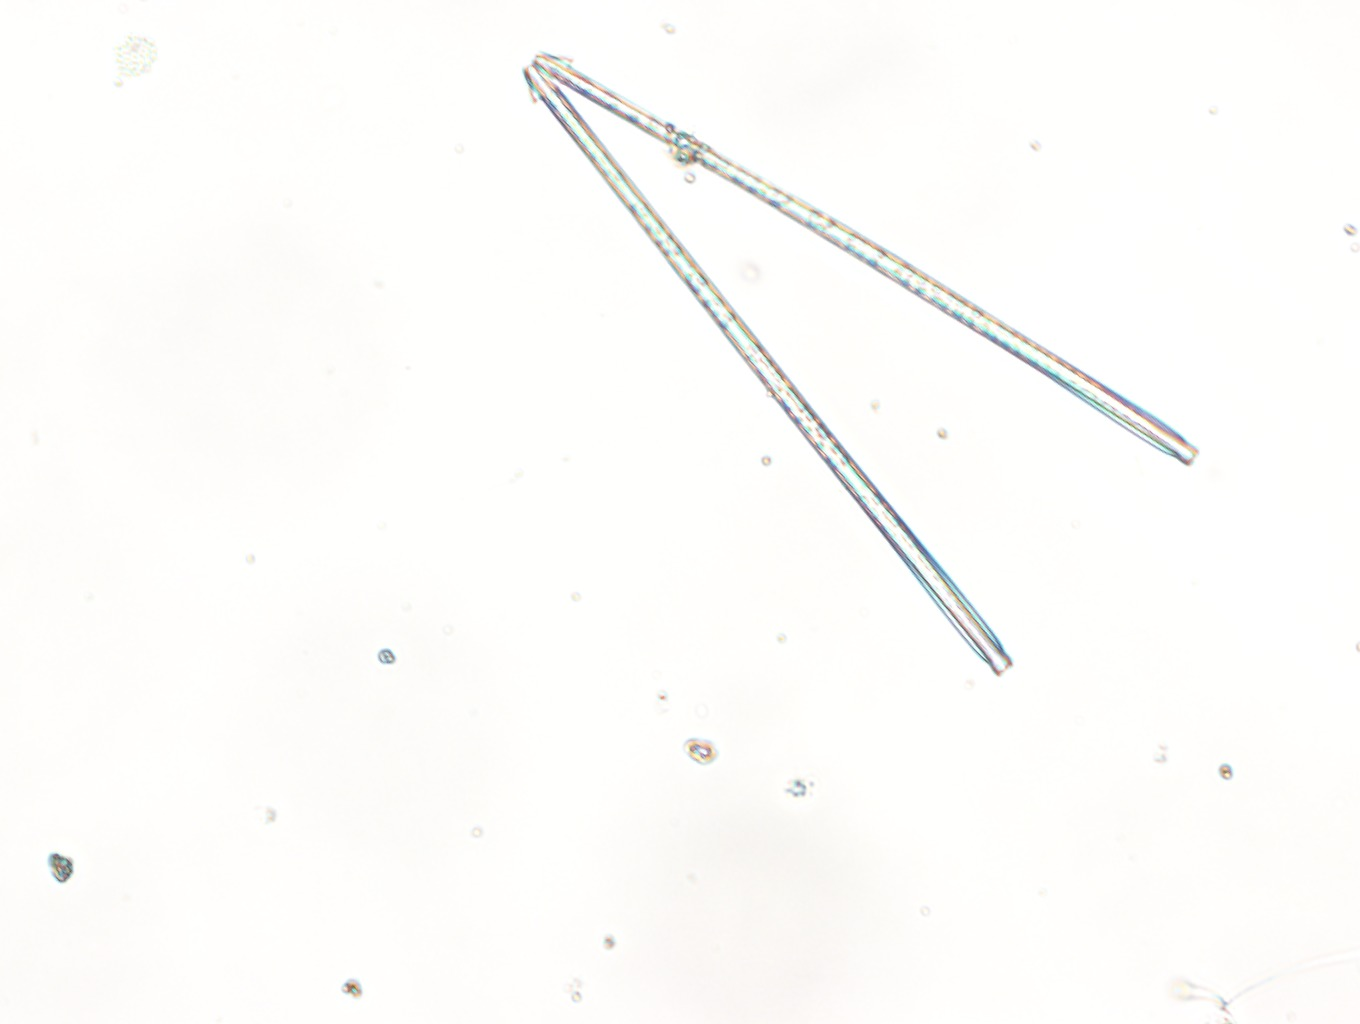ceratium fusus: (521, 48, 1196, 673)
